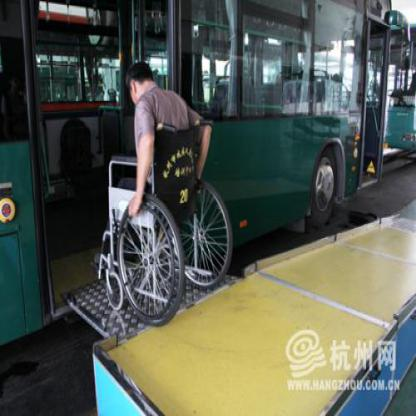wheelchair: (98, 61, 231, 323)
